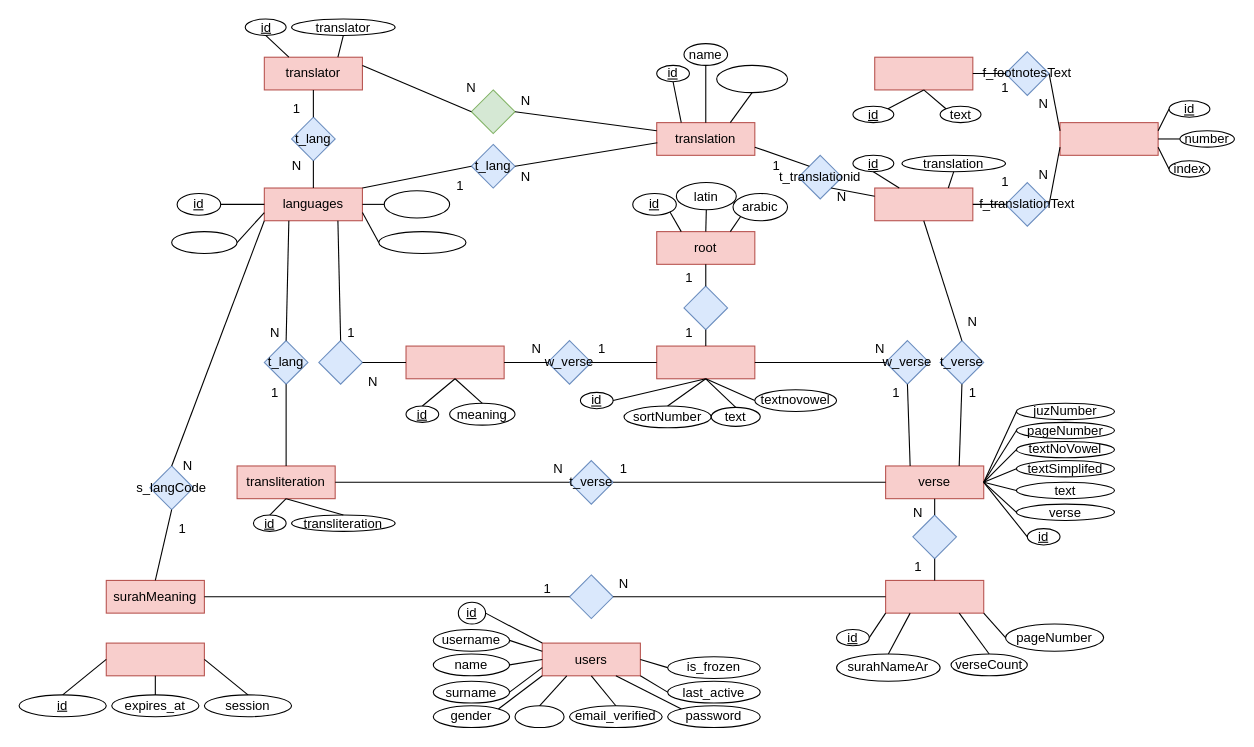
Some shapes in this 1254 by 747 pixel diagram are drawn without their labels. The shapes that lost their labels are listed below. From the top down, each one's centre as x and y in pixels, then its label:
At point 752,78: "prodYear".
At point 923,73: "footnotesText".
At point 492,111: "t_t".
At point 1108,138: "footnotes".
At point 416,204: "langOwn".
At point 923,204: "translationText".
At point 204,242: "langCode".
At point 422,242: "langEnglish".
At point 705,307: "w_root".
At point 340,362: "w_language".
At point 454,362: "wordMeaning".
At point 705,362: "words".
At point 934,536: "v_surahs".
At point 590,596: "s_surahId".
At point 934,596: "surahs".
At point 154,659: "sessions".
At point 539,716: "email".
